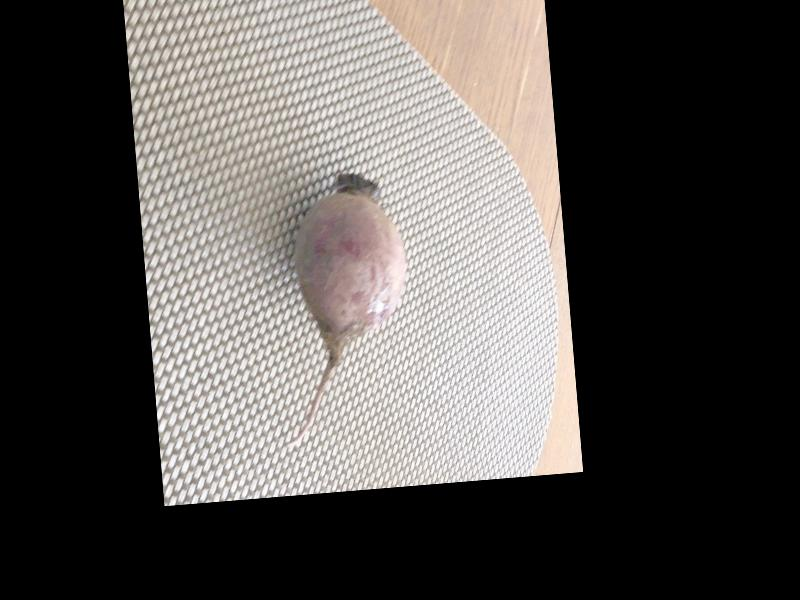Beet: (264, 168, 419, 447)
